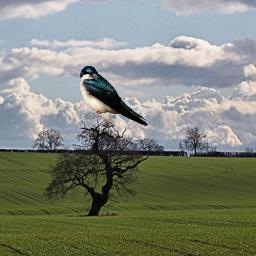Swallow: (79, 65, 149, 127)
